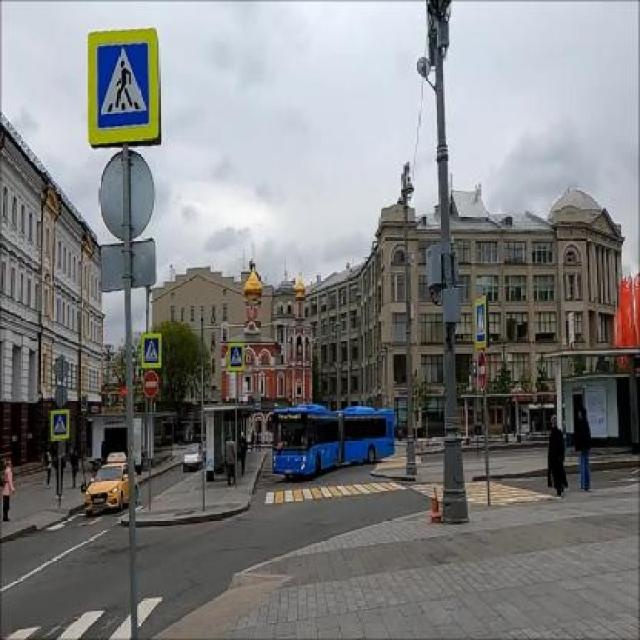Bus: (266, 405, 396, 480)
